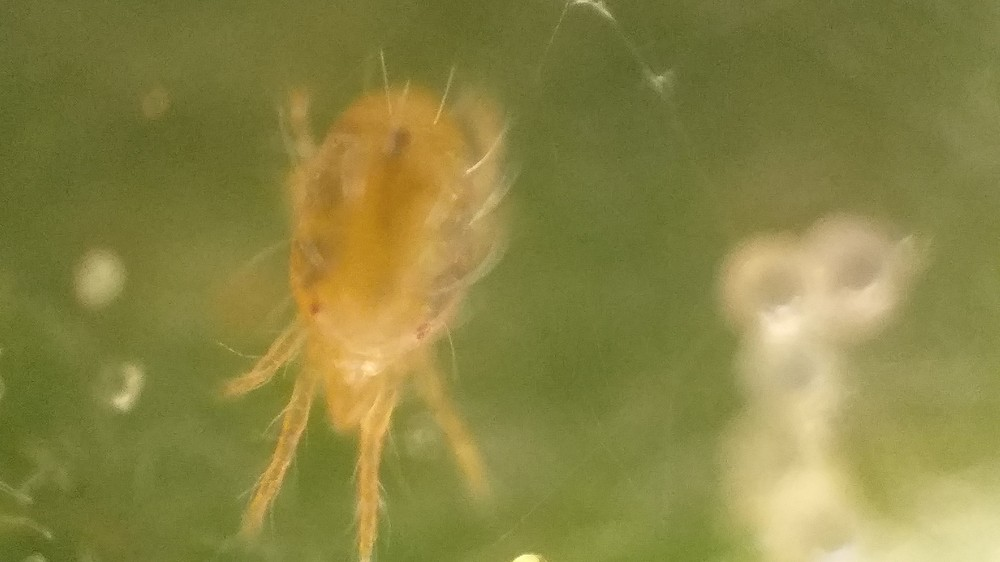Aracnido Rojo: (213, 68, 532, 556)
